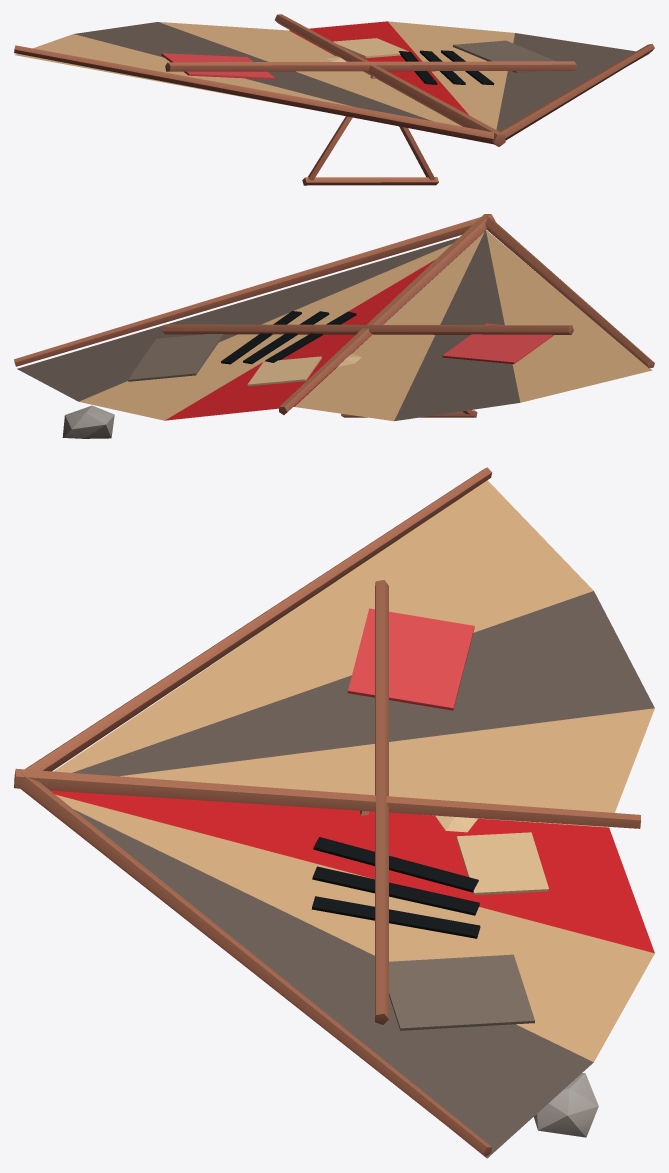
The model's file is kite_glider.glb.
3 views of the same model, one above another, from view 1: azimuth 30°, elevation 25°; view 2: azimuth 150°, elevation 25°; view 3: azimuth 270°, elevation 25° (orthographic). The views are drawn at different scales.
Visible parts, largest first — view 1: kite_glider; view 2: kite_glider; view 3: kite_glider.
Part boxes in pixels (x1,y1,x2,y2): kite_glider: (14, 14, 654, 185); kite_glider: (14, 214, 654, 438); kite_glider: (14, 467, 654, 1158).
Size of the model in its own units: 7.07 by 1.99 by 4.18.
1 material, 1 textured.
